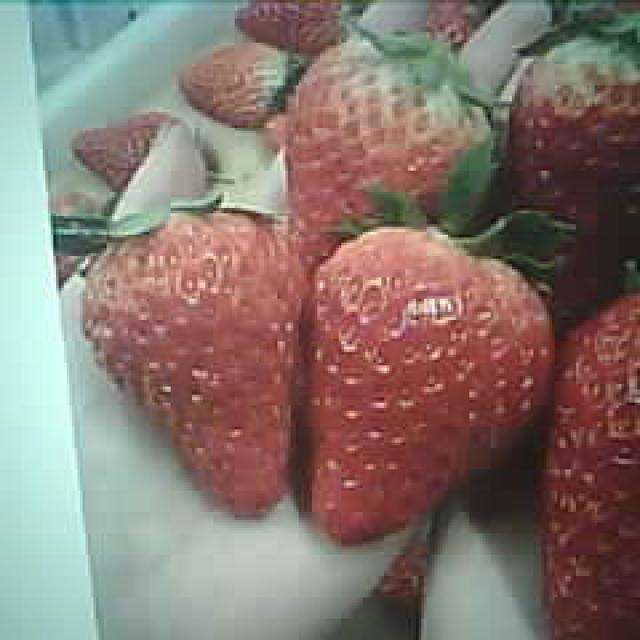ripe: (314, 232, 554, 542), (86, 213, 304, 514)
